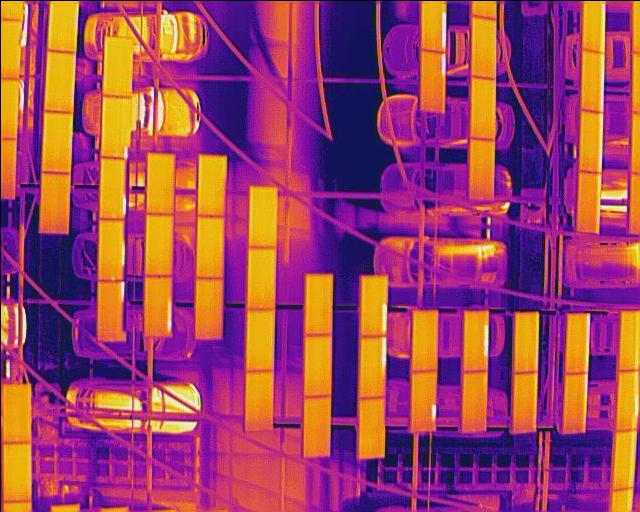Cell: (99, 95, 128, 158)
No-Anomaly: (42, 50, 74, 111), (40, 111, 72, 172), (38, 172, 69, 234), (194, 214, 223, 279), (145, 212, 174, 277), (246, 245, 275, 309), (248, 184, 277, 247), (304, 271, 332, 336), (195, 153, 224, 215), (245, 306, 273, 370), (193, 278, 222, 339), (301, 395, 330, 456), (1, 384, 30, 445), (244, 370, 273, 431), (144, 153, 173, 213), (2, 441, 30, 503), (303, 334, 331, 396), (468, 76, 495, 140), (460, 368, 487, 431), (102, 36, 130, 95), (469, 15, 495, 78), (358, 396, 384, 458), (467, 139, 493, 200), (611, 428, 636, 491), (562, 371, 587, 434), (411, 310, 436, 372), (575, 171, 600, 232), (617, 309, 640, 372), (513, 372, 536, 433), (95, 281, 119, 339), (514, 310, 536, 373), (580, 0, 604, 52)
Unclassified: (97, 157, 125, 218), (96, 219, 124, 280), (358, 337, 385, 400), (144, 274, 171, 335), (359, 275, 386, 336), (409, 370, 436, 431), (419, 51, 445, 112), (614, 370, 640, 431), (462, 310, 487, 372), (577, 110, 602, 171), (564, 313, 589, 374), (580, 50, 605, 109), (420, 0, 445, 51)
